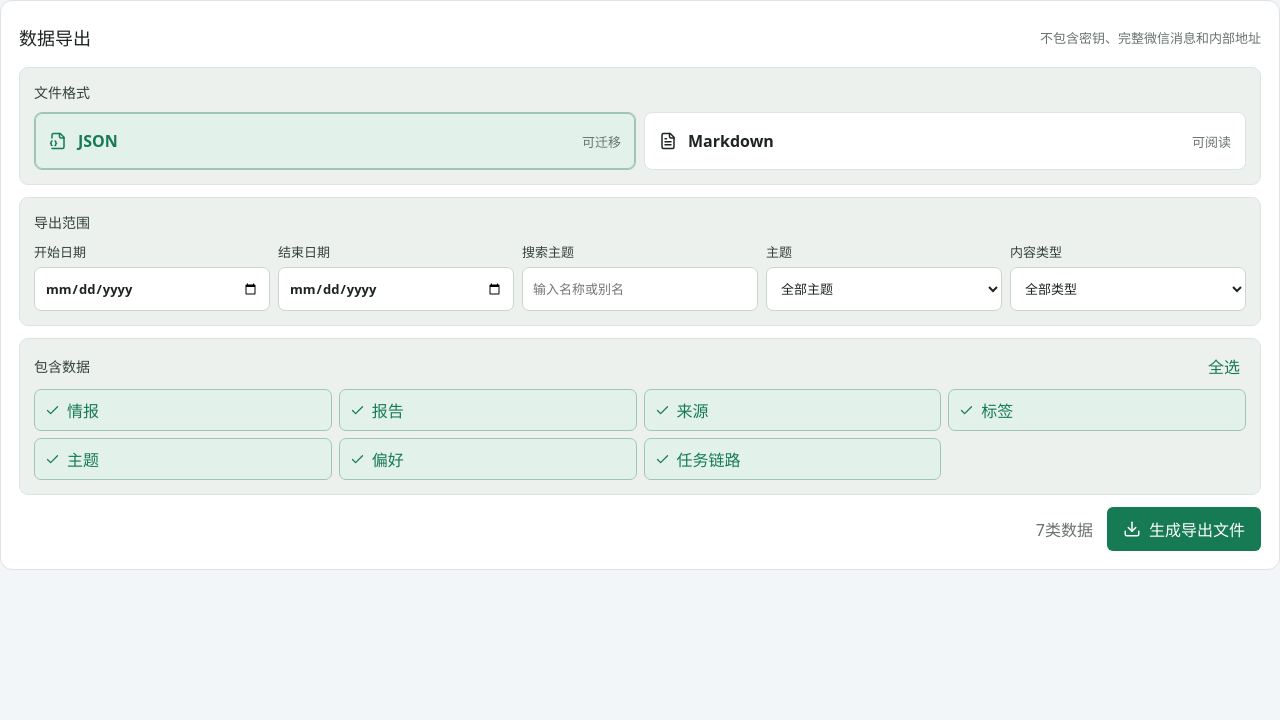
Test: 按日期、主题、类型和数据范围生成JSON导出
Type "2026-08-01" into the date field labelled "开始日期" at (152, 289), box [34, 267, 270, 311]
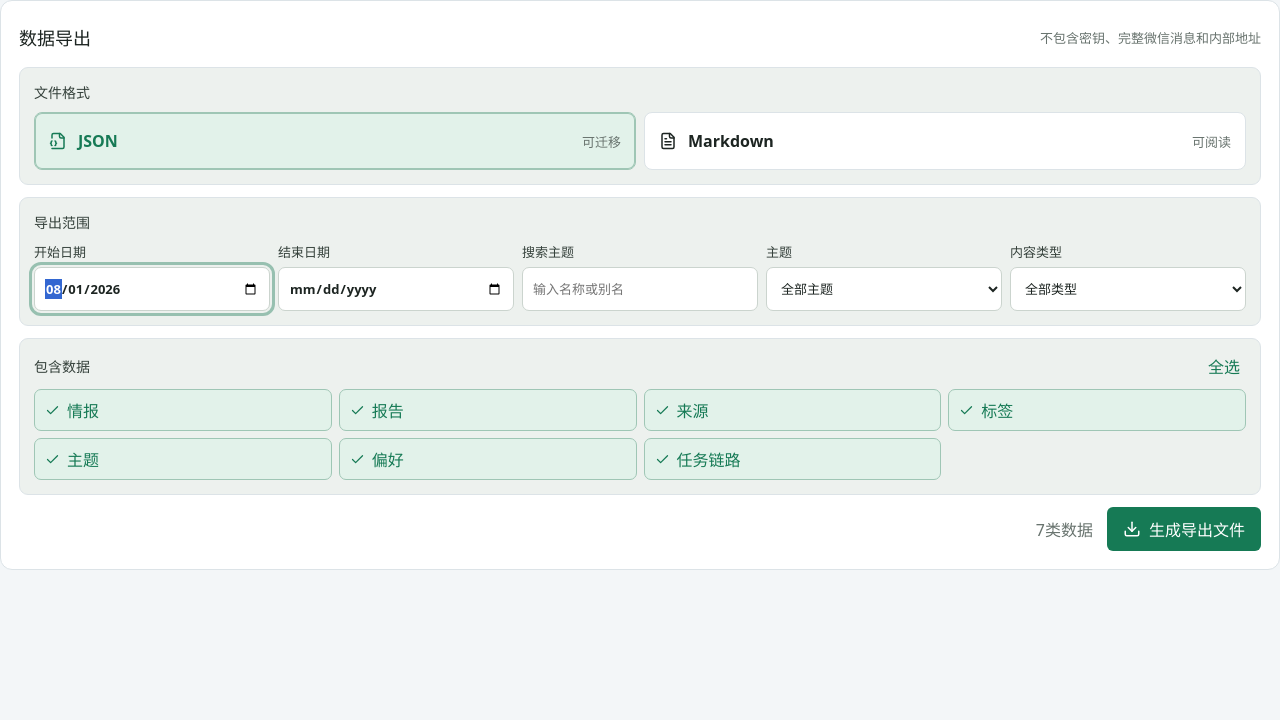
Select "智能体" in the dropdown named "导出主题" at (884, 289), box [766, 267, 1002, 311]
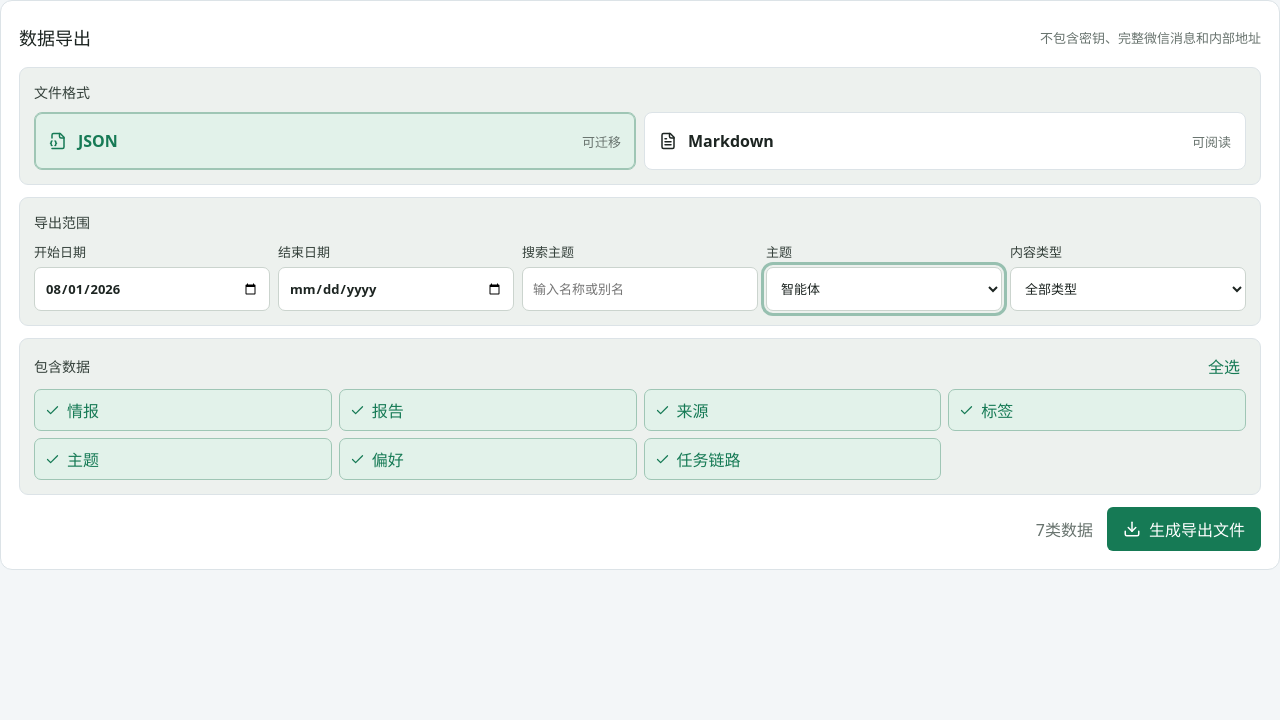
Select "论文" in the dropdown named "导出内容类型" at (1128, 289), box [1010, 267, 1246, 311]
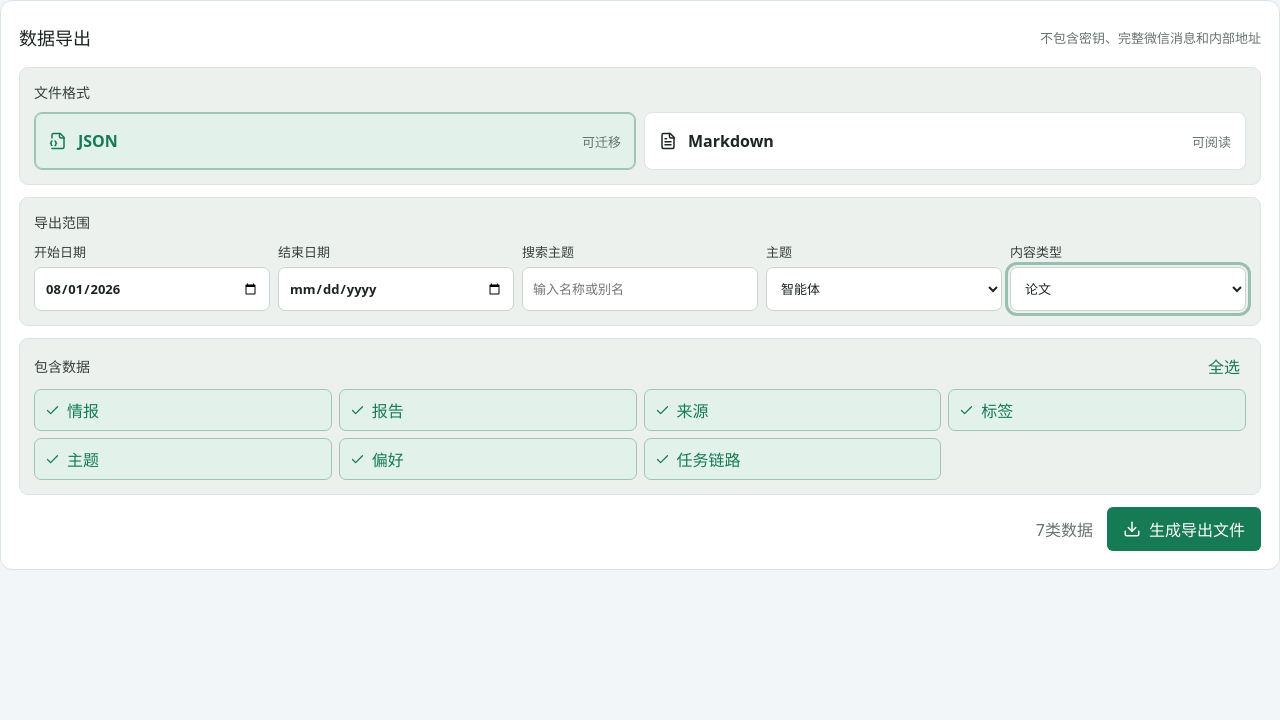
Click the checkbox "标签" at (997, 411), box [948, 389, 1246, 431]
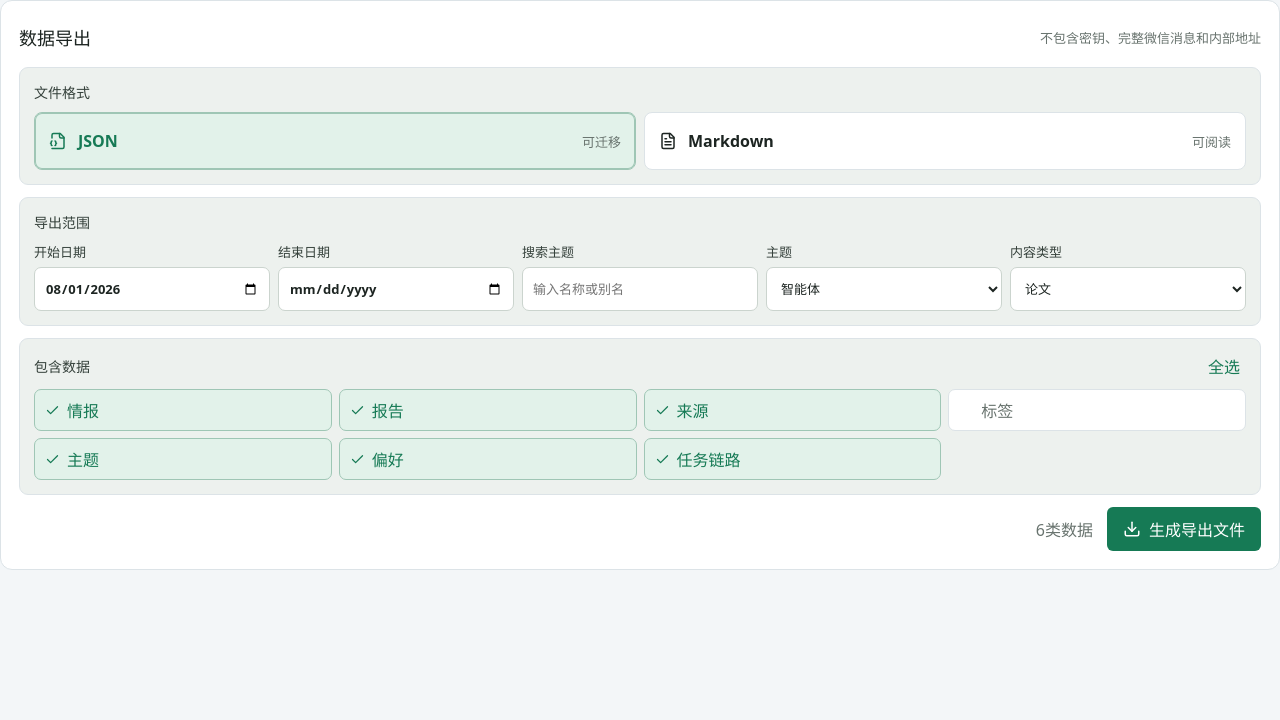
Click the button "生成导出文件" at (1184, 529), box [1107, 507, 1261, 551]
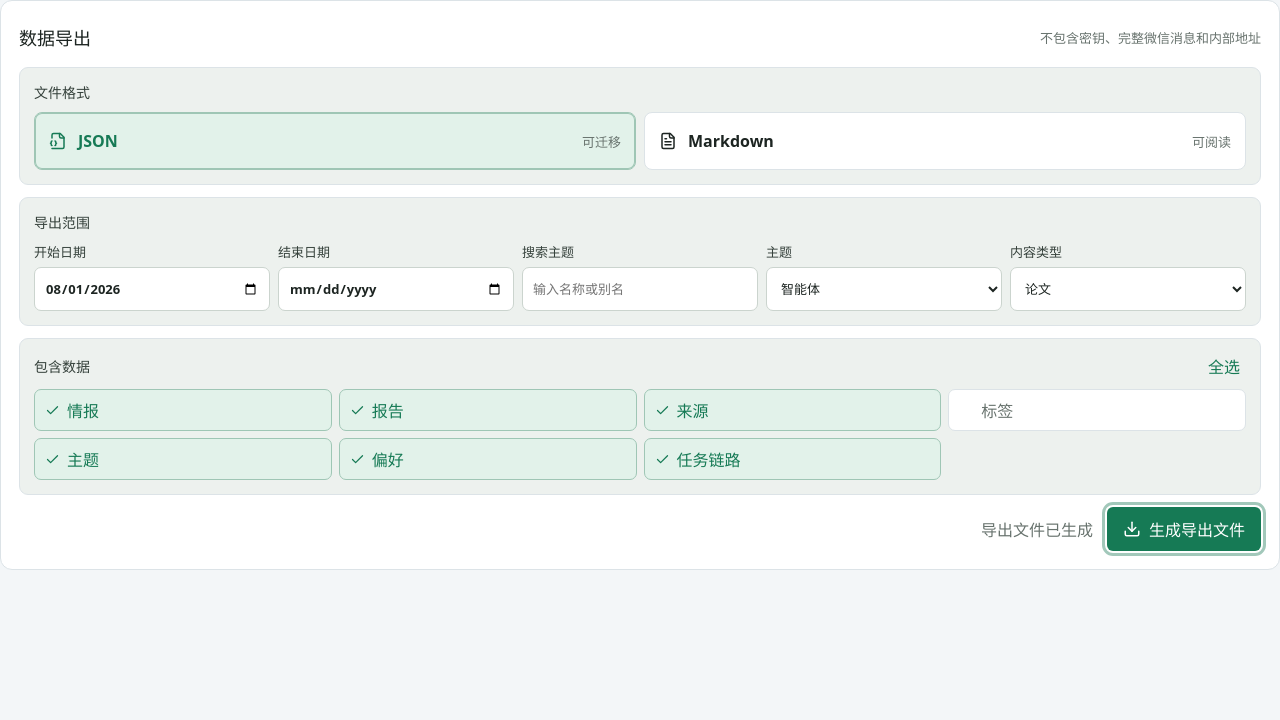
Check: the text "导出文件已生成" is shown, box [981, 517, 1093, 541]
